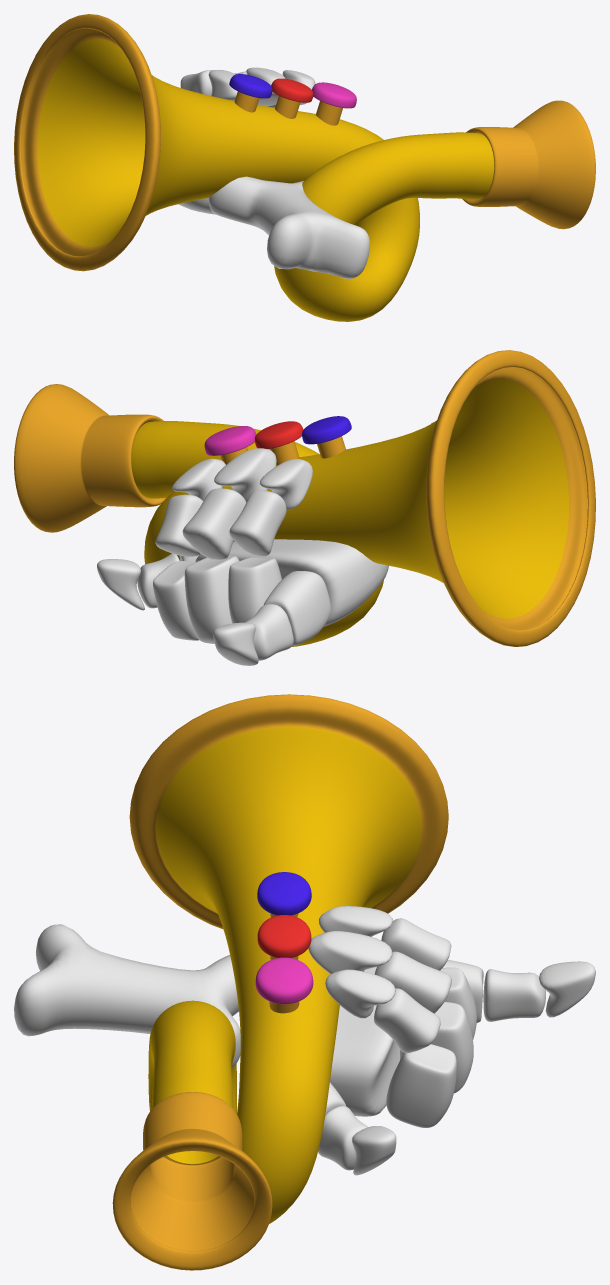
File: trumpet 1.fbx
3 renders of one model, top to bottom at view 1: azimuth 30°, elevation 25°; view 2: azimuth 150°, elevation 25°; view 3: azimuth 270°, elevation 25°, orthographic. The views are drawn at different scales.
Parts seen in each view (by area): view 1: Vert.018; view 2: Vert.018; view 3: Vert.018.
Boxes of the visible parts, left/top/right/bottom form: Vert.018: left=14, top=14, right=595, bottom=321; Vert.018: left=14, top=350, right=595, bottom=665; Vert.018: left=14, top=694, right=595, bottom=1270.
Size of the model in its own units: 2194 by 1405 by 1860.
